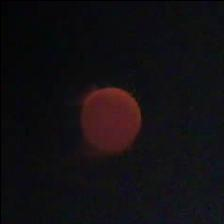infertile: (79, 86, 141, 153)
